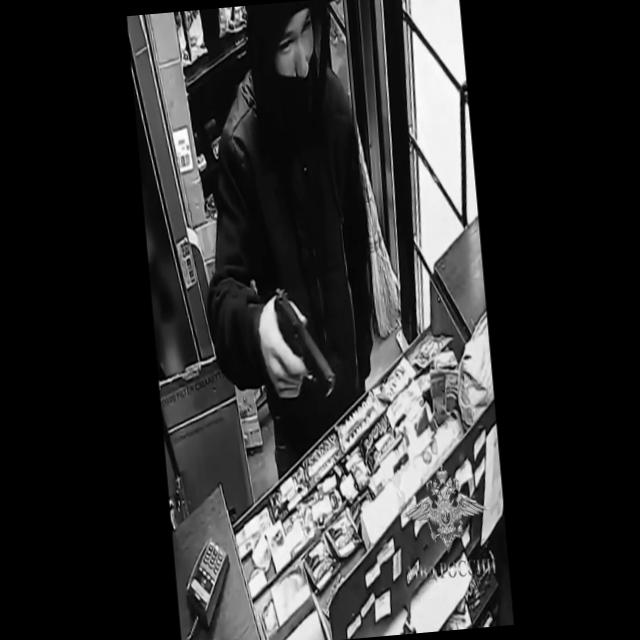gun: (259, 282, 341, 428)
person with a gun: (182, 0, 387, 467)
